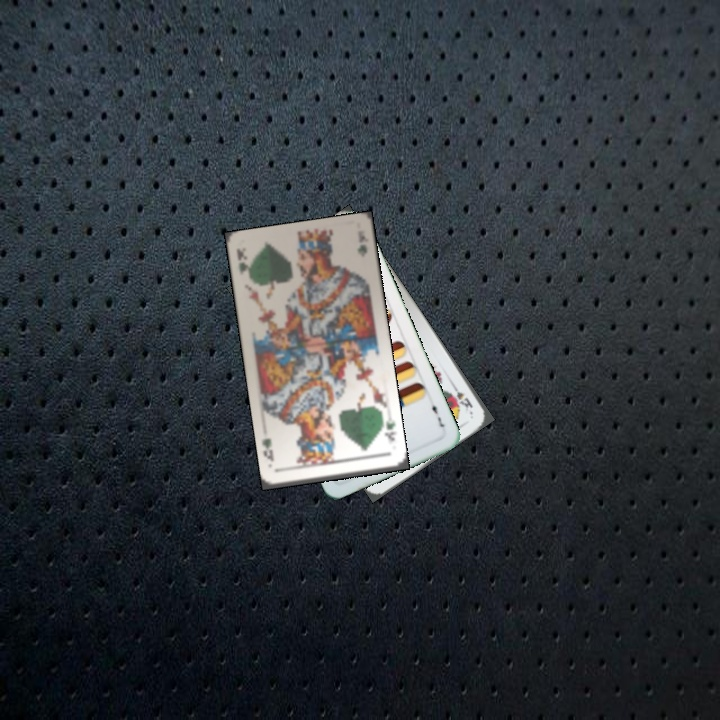E7: (427, 396, 447, 430)
GK: (233, 244, 253, 277), (381, 415, 399, 444)
SK: (448, 380, 475, 414)
